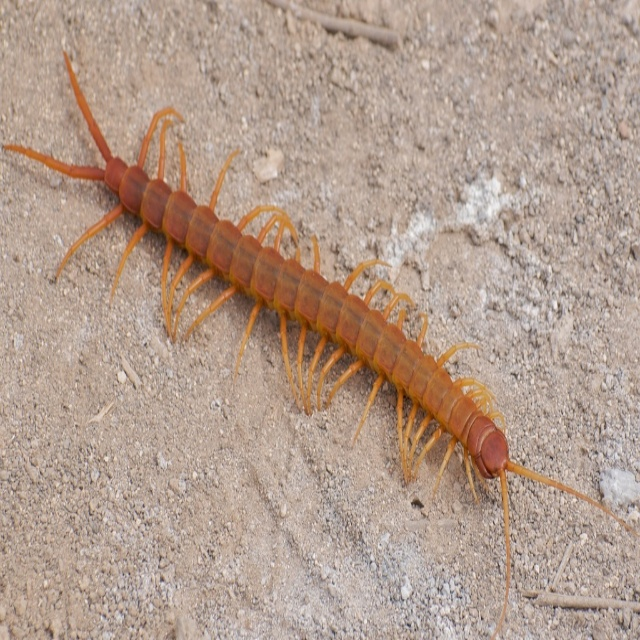Centipede: (2, 47, 637, 640)
